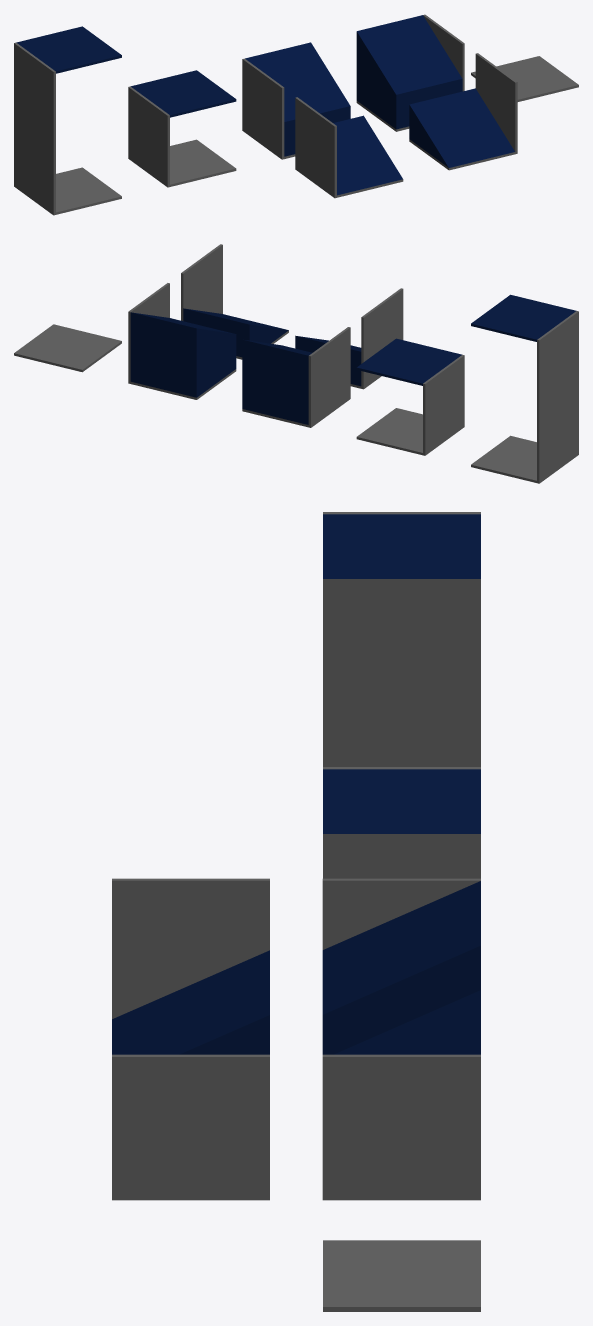
The model's file is level-tiles.glb.
3 views of the same model, one above another, from view 1: azimuth 30°, elevation 25°; view 2: azimuth 150°, elevation 25°; view 3: azimuth 270°, elevation 25° (orthographic). The views are drawn at different scales.
Parts seen in each view (by area): view 1: WallRamp.R2-col, WallRamp.R1-col, Hall.L-col, WallRamp.L2-col, WallRamp.L1-col, Hall.TL-col, Hall.BL-col, Floor-col; view 2: WallRamp.R2-col, WallRamp.L2-col, Hall.L-col, Hall.TL-col, Hall.BL-col, WallRamp.R1-col, WallRamp.L1-col, Floor-col; view 3: WallRamp.R2-col, WallRamp.L1-col, WallRamp.L2-col, WallRamp.R1-col, Hall.TL-col, Hall.L-col, Hall.BL-col, Floor-col.
Boxes of the visible parts, x1,y1,x2,y2 form: WallRamp.R2-col: (356, 14, 464, 131); WallRamp.R1-col: (409, 53, 517, 170); Hall.L-col: (128, 70, 236, 187); WallRamp.L2-col: (242, 42, 350, 159); WallRamp.L1-col: (295, 97, 403, 198); Hall.TL-col: (14, 26, 121, 143); Hall.BL-col: (14, 115, 121, 215); Floor-col: (471, 56, 578, 101); WallRamp.R2-col: (128, 283, 236, 399); WallRamp.L2-col: (242, 327, 350, 427); Hall.L-col: (356, 338, 464, 455); Hall.TL-col: (471, 294, 578, 411); Hall.BL-col: (471, 383, 578, 483); WallRamp.R1-col: (181, 244, 288, 359); WallRamp.L1-col: (295, 288, 403, 389); Floor-col: (14, 324, 121, 372); WallRamp.R2-col: (322, 990, 480, 1200); WallRamp.L1-col: (112, 878, 269, 1054); WallRamp.L2-col: (322, 878, 480, 1054); WallRamp.R1-col: (112, 1054, 269, 1200); Hall.TL-col: (323, 512, 480, 657); Hall.L-col: (323, 767, 480, 878); Hall.BL-col: (323, 657, 480, 766); Floor-col: (323, 1240, 480, 1311).
Bounding box in the file's own units: 23 × 6 × 7.
1 material, 1 textured.
